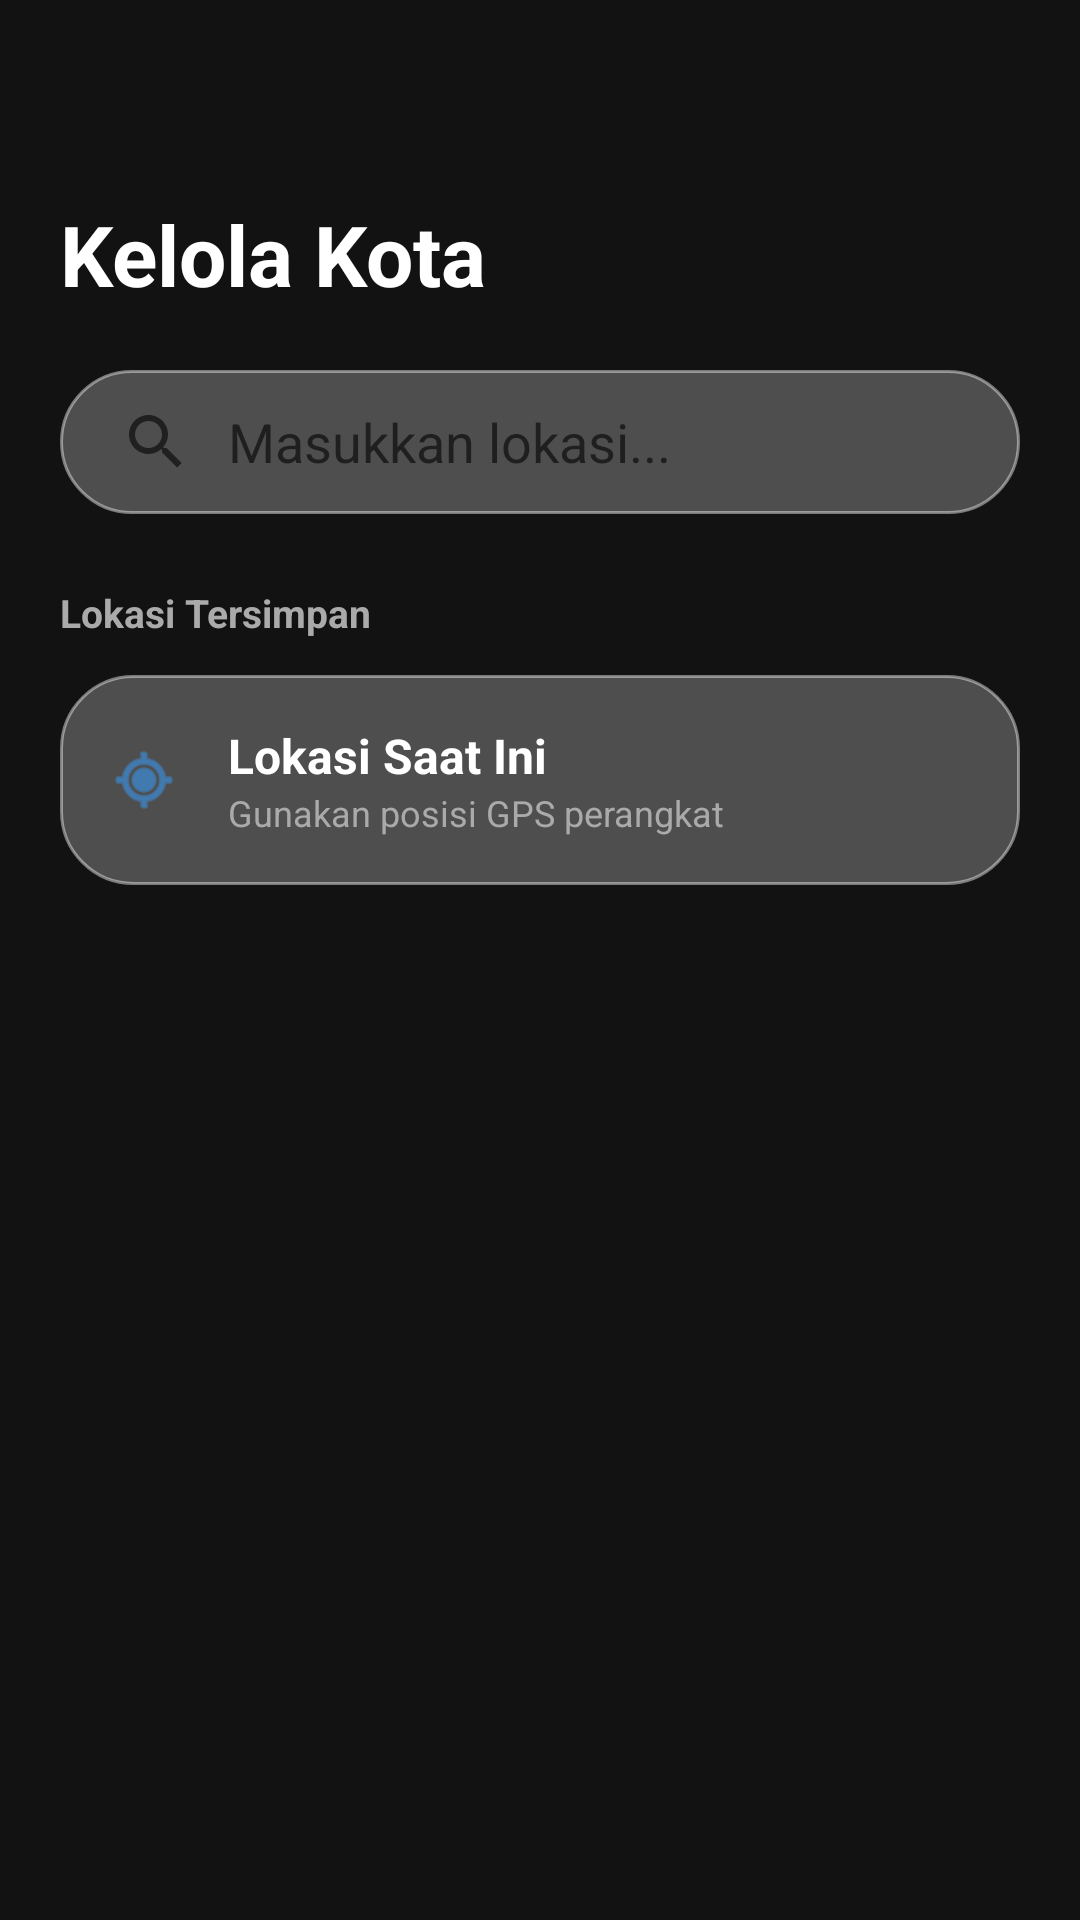

Locate icon controls on the screen. Image size 1080px×1920px, boxes as (x1, y1, x2, y2).
mylocation: (115, 751, 173, 809)
